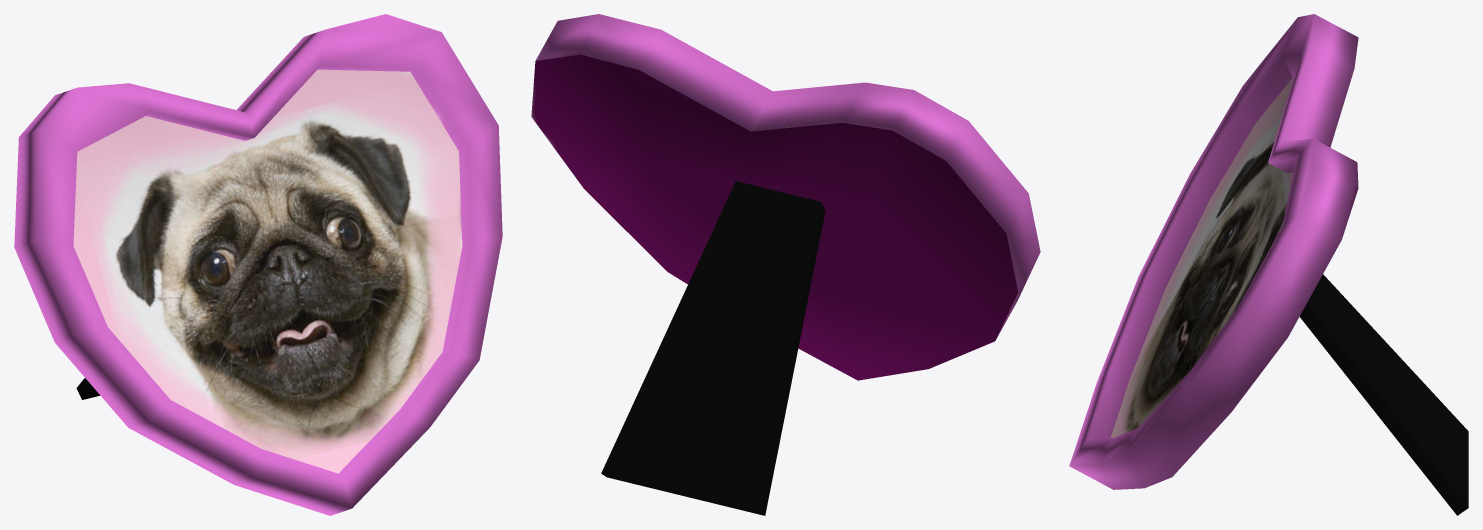
Rendered from dogfoto.fbx.
3 views of the same model, side by side, from view 1: azimuth 30°, elevation 25°; view 2: azimuth 150°, elevation 25°; view 3: azimuth 270°, elevation 25° (orthographic). The views are drawn at different scales.
Parts seen in each view (by area): view 1: foto1; view 2: foto1, ständer; view 3: foto1, ständer.
Part boxes in pixels (x1,y1,x2,y2): foto1: (14,14,502,515); foto1: (531,14,1040,380); ständer: (601,181,825,515); foto1: (1069,14,1358,489); ständer: (1299,274,1468,515).
Bounding box in the file's own units: 5.61 × 4.55 × 4.12.
